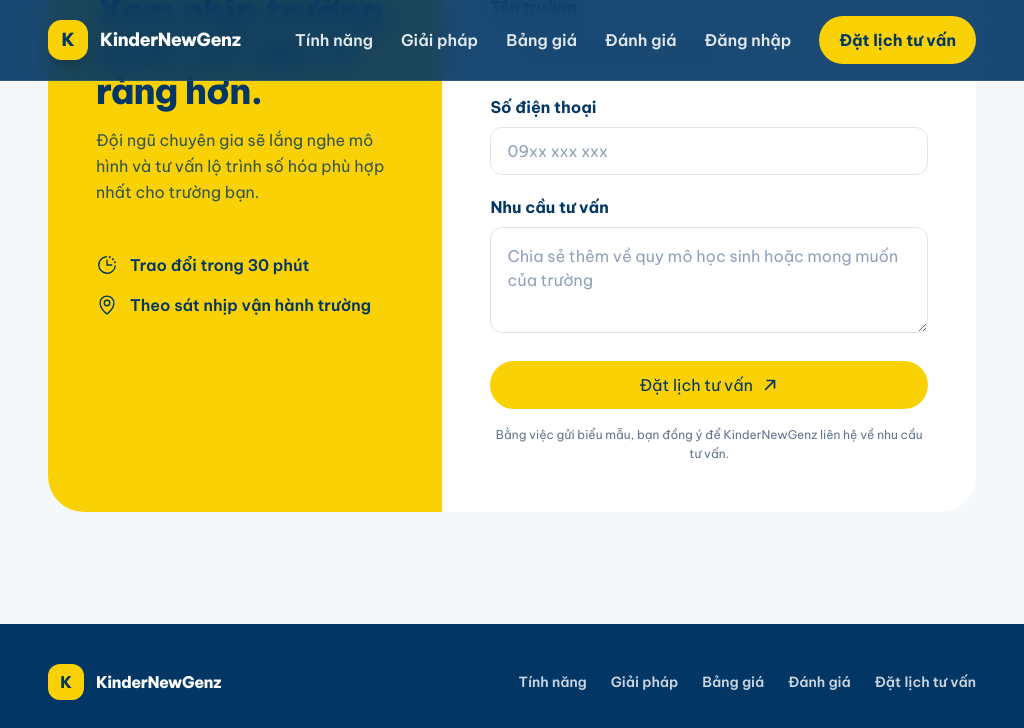
Test: KinderNewGenz landing page › validates form fields contactName, schoolName, phone and submits successfully
(page scrolled)
Click the button "Đặt lịch tư vấn" at (709, 384), box [490,360,928,408]
(page scrolled)
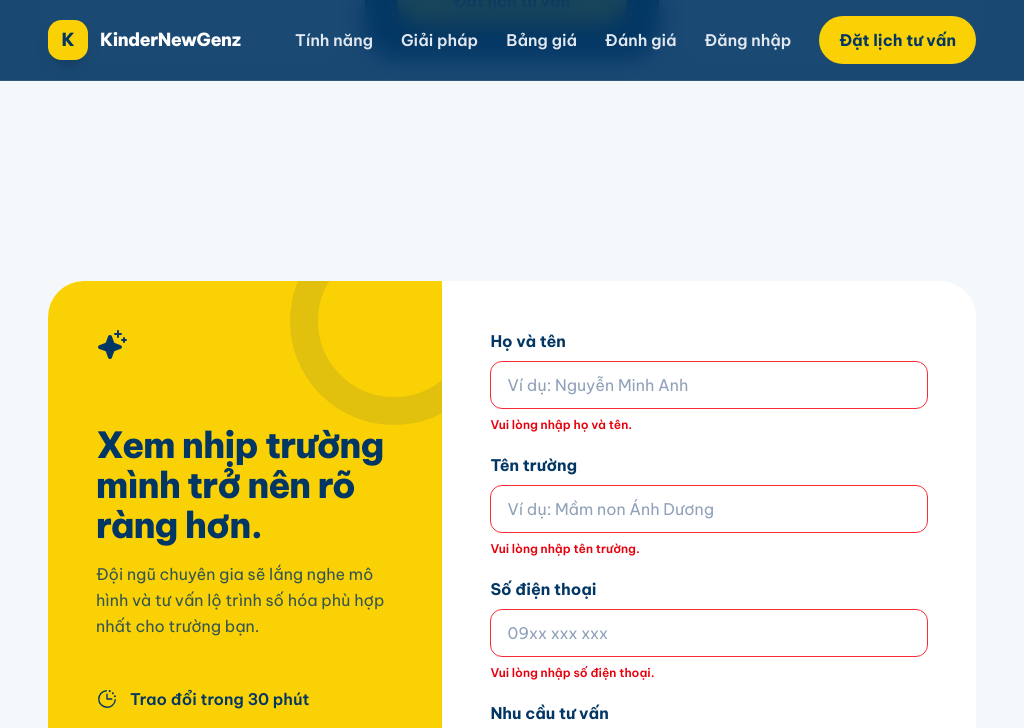
Result: the text "Vui lòng nhập họ và tên." is shown at [490,416,632,432]
Result: the text "Vui lòng nhập tên trường." is shown at [490,540,640,556]
Result: the text "Vui lòng nhập số điện thoại." is shown at [490,664,655,680]
Note: Fill valid data
Type "Nguyễn Thị Hương" into the field labelled "Họ và tên" at (709, 384), box [490,360,928,408]
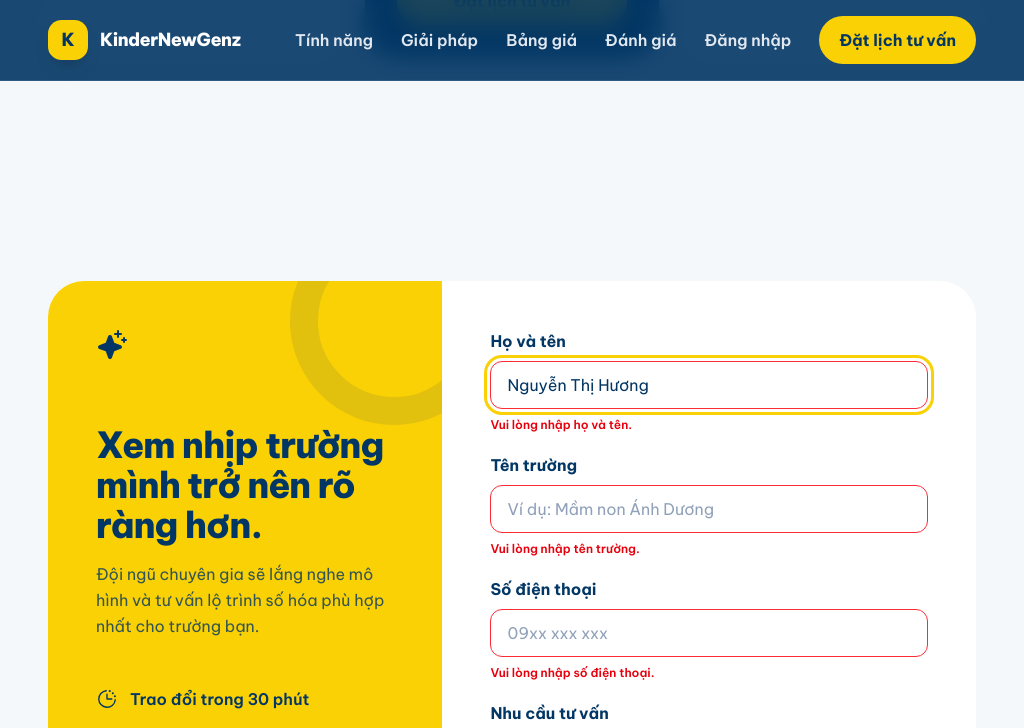
Type "Mầm non Ánh Dương" into the field labelled "Tên trường" at (709, 508), box [490,484,928,532]
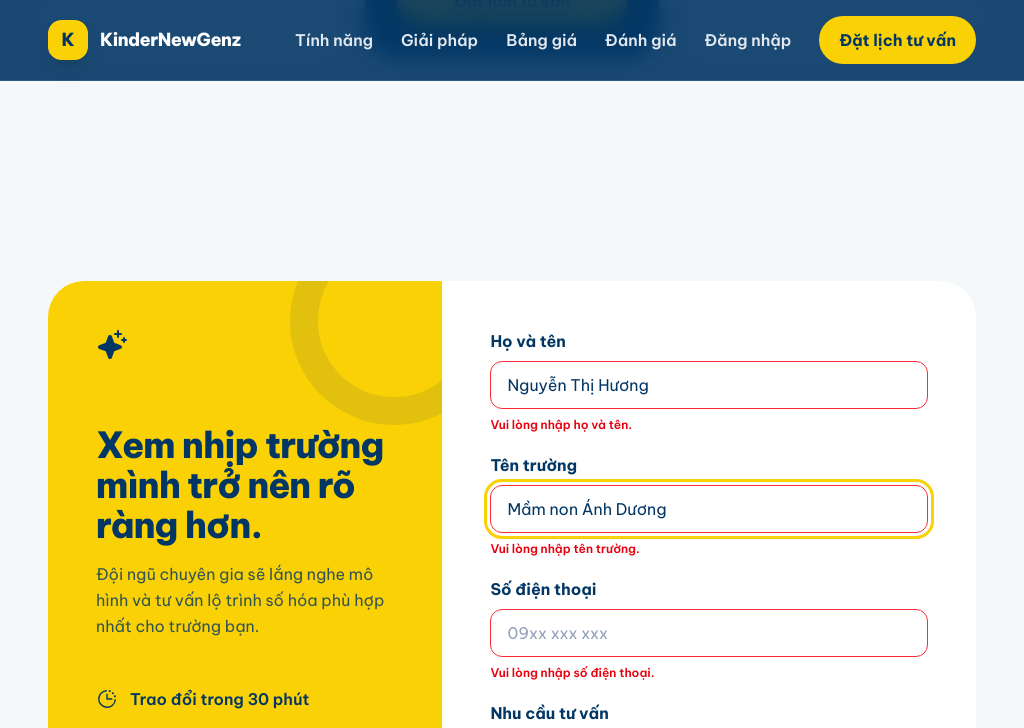
Type "0912345678" into the field labelled "Số điện thoại" at (709, 632), box [490,608,928,656]
(page scrolled)
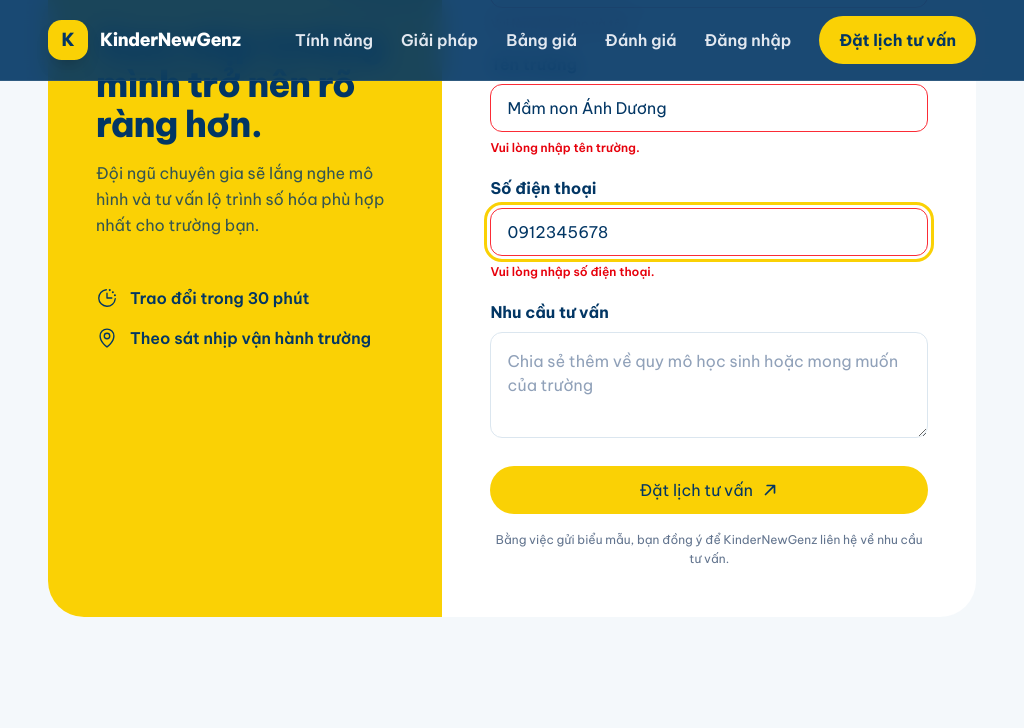
Type "Cần tư vấn 6 cơ sở" into the text box labelled "Nhu cầu tư vấn" at (709, 384), box [490,332,928,438]
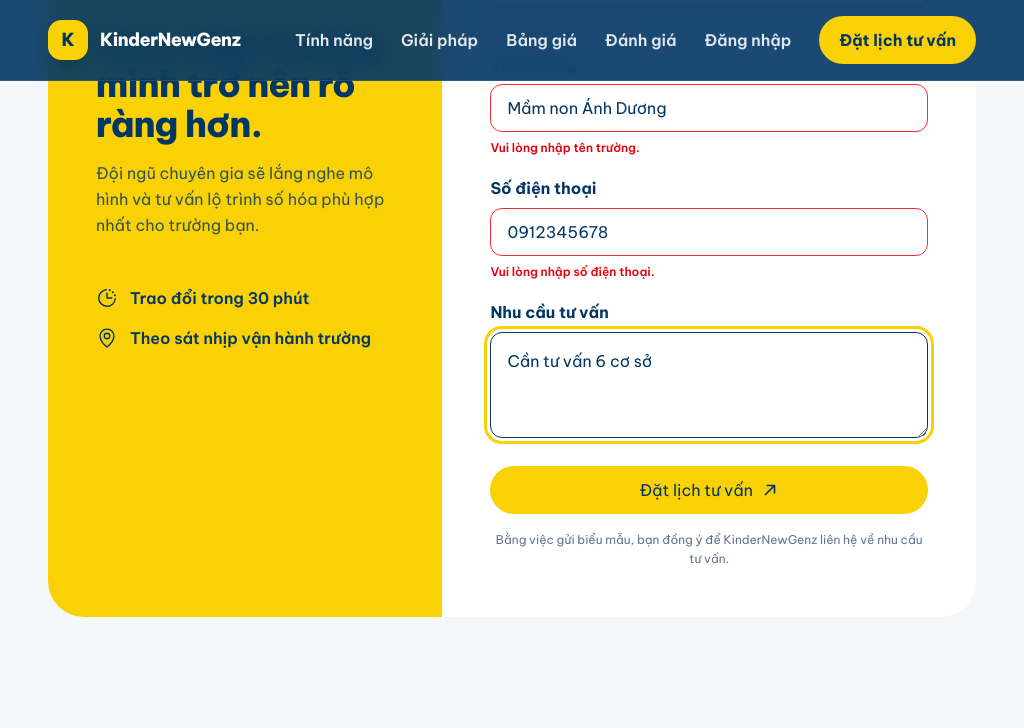
Click the button "Đặt lịch tư vấn" at (709, 490), box [490,466,928,514]
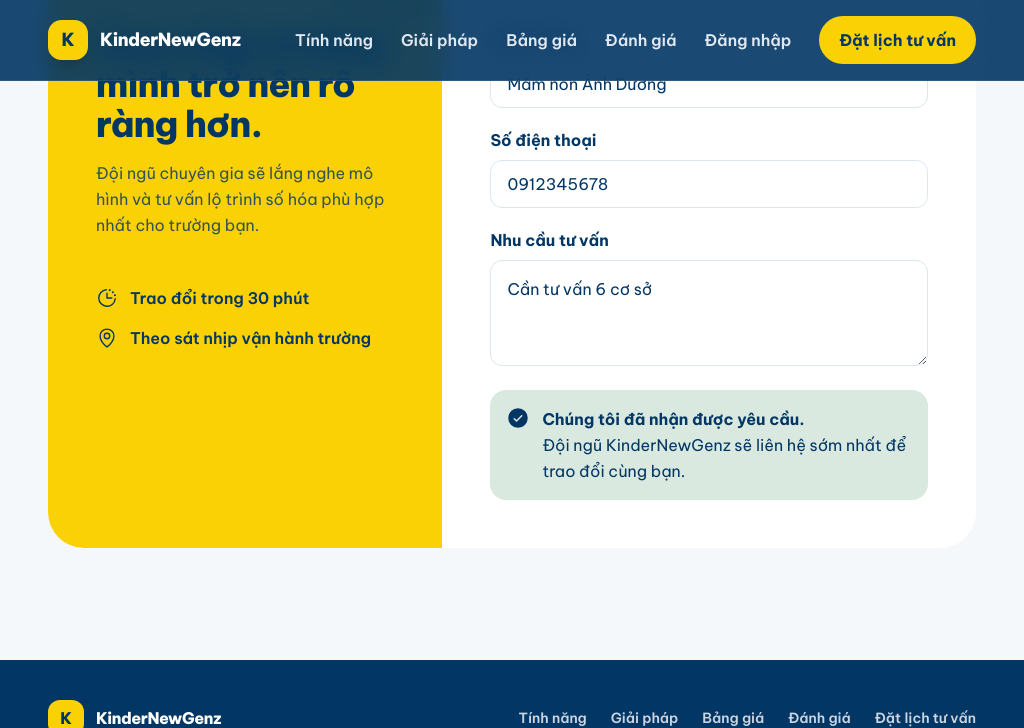
Result: the text "Chúng tôi đã nhận được yêu cầu." is shown at [542,408,805,428]
